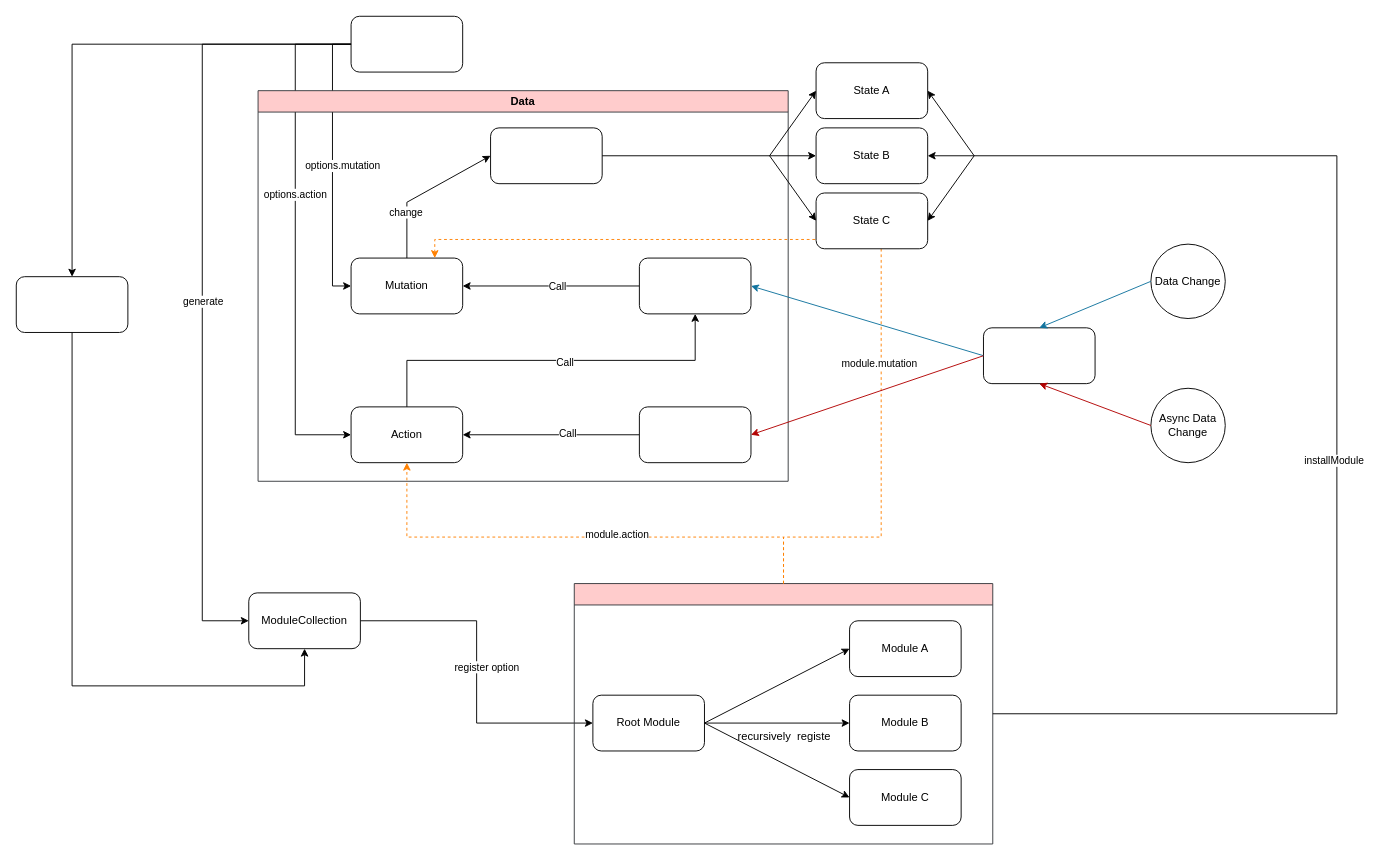
Image size: 1379x860. Some labels were removed from this diagram. Each missing label, with the box of its shape:
_modules: (573, 583, 993, 844)
option.module: (15, 276, 128, 332)
Options: (350, 15, 463, 72)
State: (490, 127, 602, 184)
Store: (983, 327, 1095, 384)
store.commit: (638, 257, 751, 314)
Store.dispatch: (638, 406, 751, 463)
